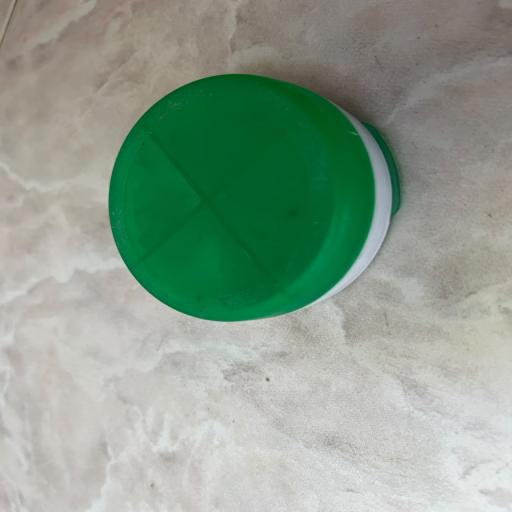HDPE: (70, 72, 418, 321)
